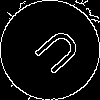U: (25, 25, 84, 83)
